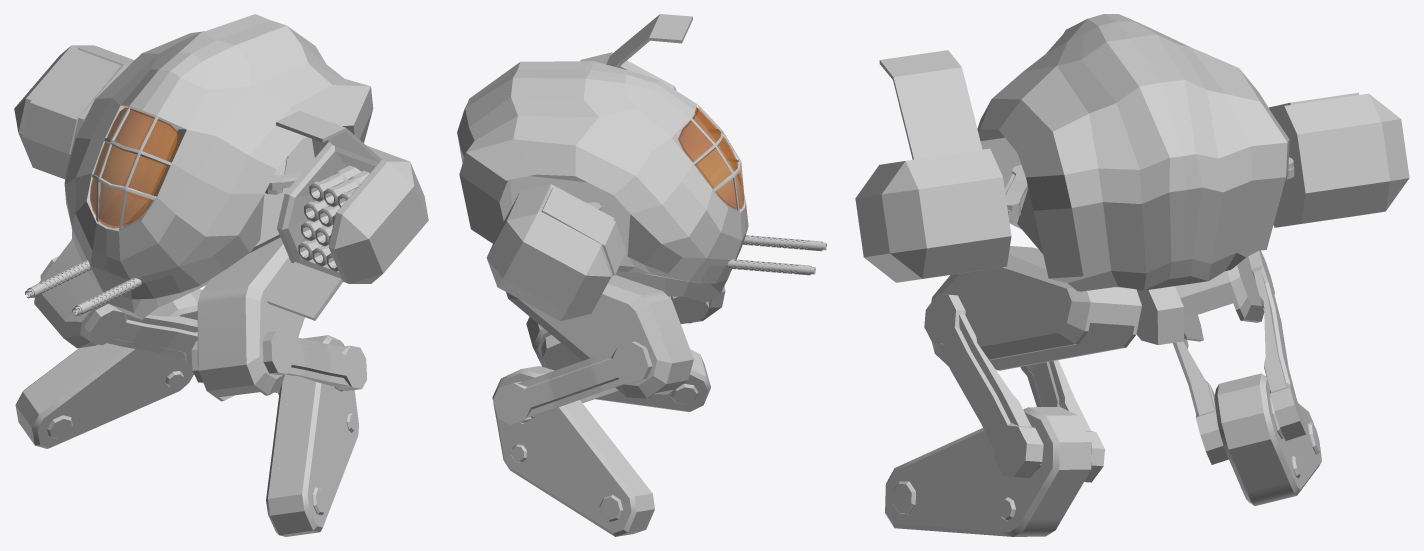
File: JedMech.fbx
The picture shows the model from 3 angles, left to right: view 1: azimuth 30°, elevation 25°; view 2: azimuth 150°, elevation 25°; view 3: azimuth 270°, elevation 25°; orthographic projection. The views are drawn at different scales.
Visible parts, largest first — view 1: METAL_GEAR2; view 2: METAL_GEAR2; view 3: METAL_GEAR2.
Boxes of the visible parts, <box> form: METAL_GEAR2: <box>14,14,428,536</box>; METAL_GEAR2: <box>457,14,826,536</box>; METAL_GEAR2: <box>855,14,1409,536</box>.
Bounding box in the file's own units: 26.42 × 31.19 × 31.26.
